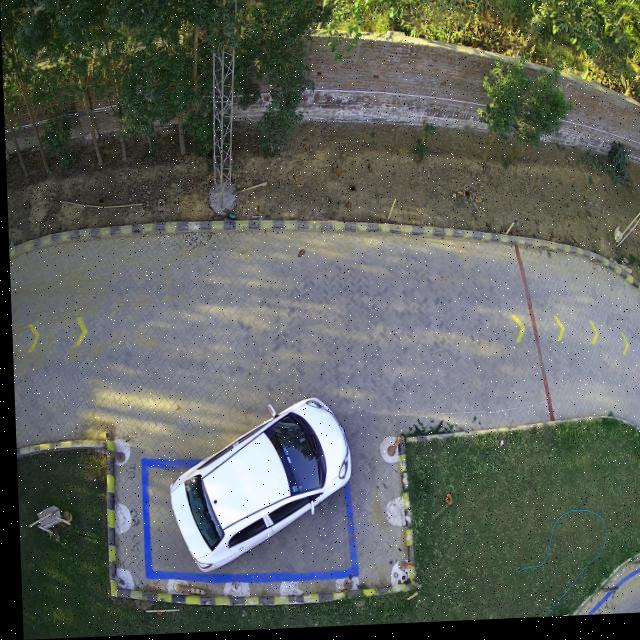car: (166, 401, 348, 573)
